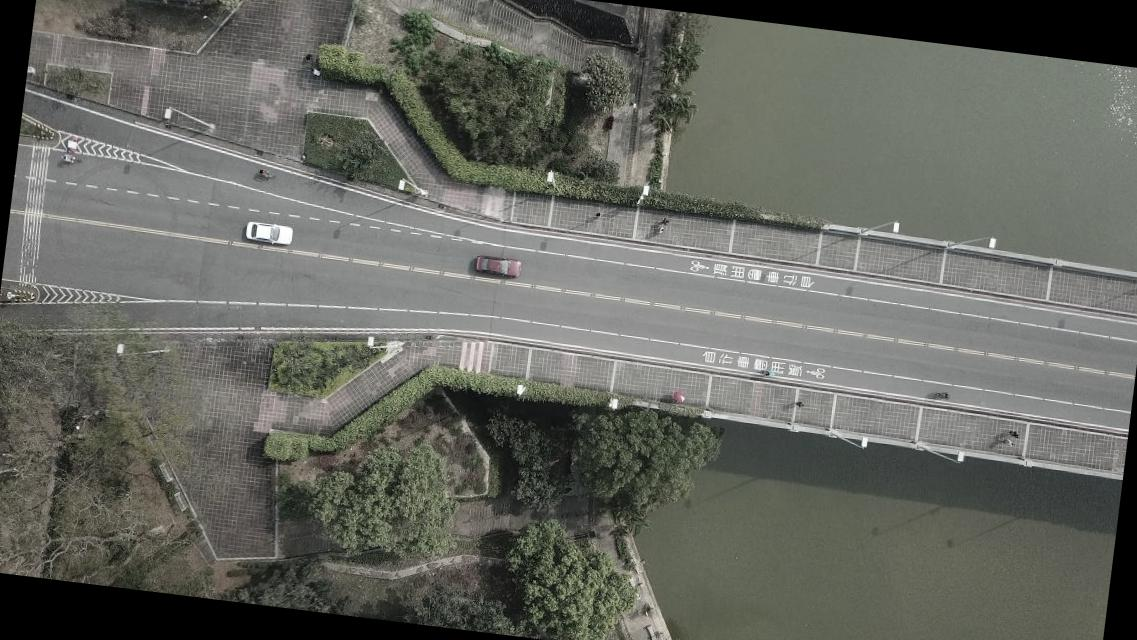vehicle: (242, 218, 292, 246), (474, 253, 522, 280)
